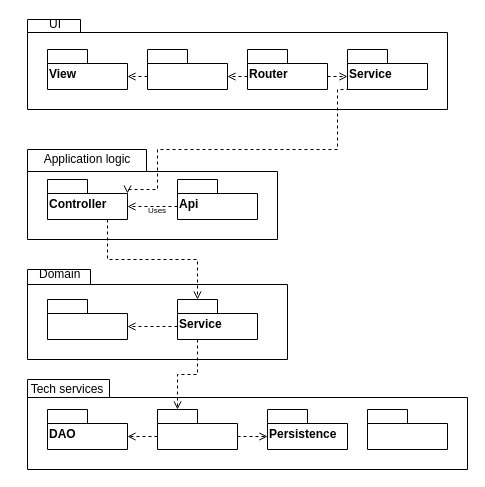
Some shapes in this 485 by 487 pixel diagram are drawn without their labels. Here are the shapes that lost their labels. From the top down, the centre of each, then its label:
At point 187,69: "Component".
At point 87,319: "Entity".
At point 197,429: "Repository".
At point 407,429: "Security".
